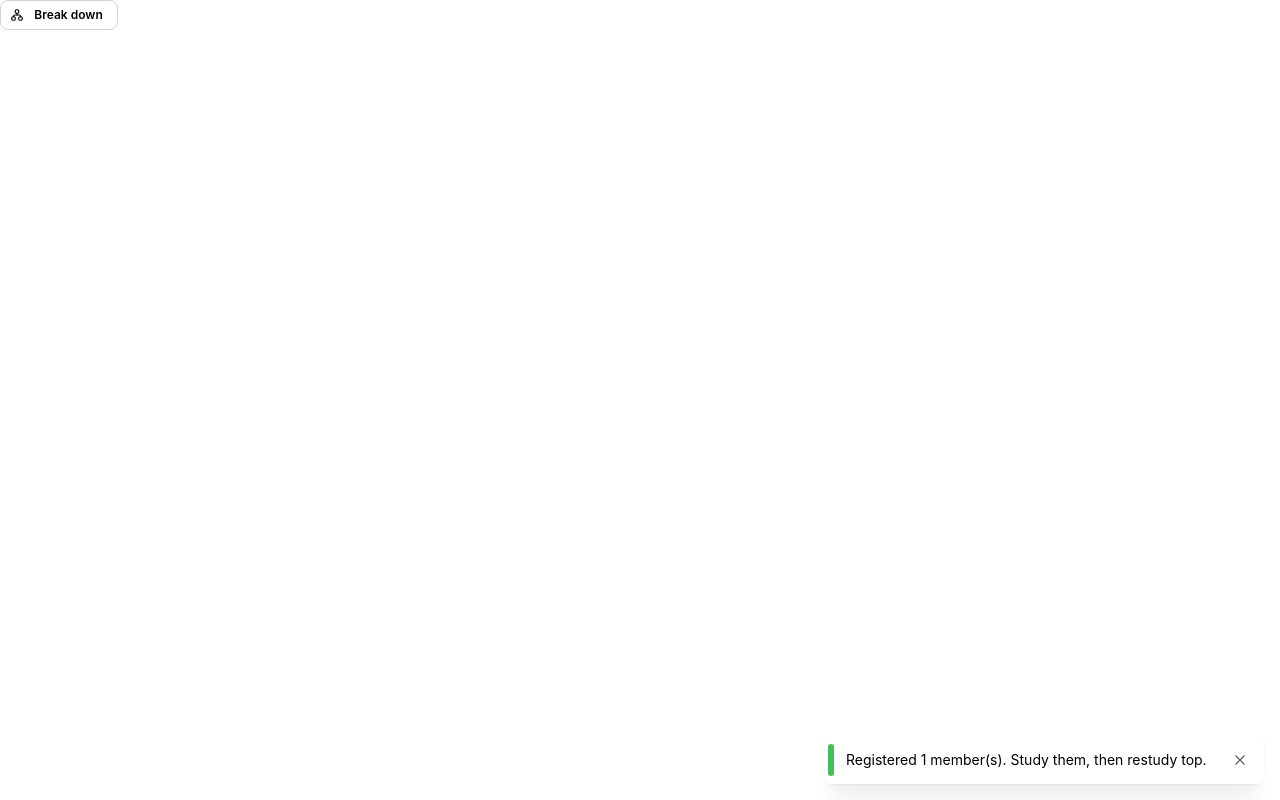
BreakDown › says what to do when the study suggests nothing
Click the button "Break down" at (59, 15), box [0,0,118,30]
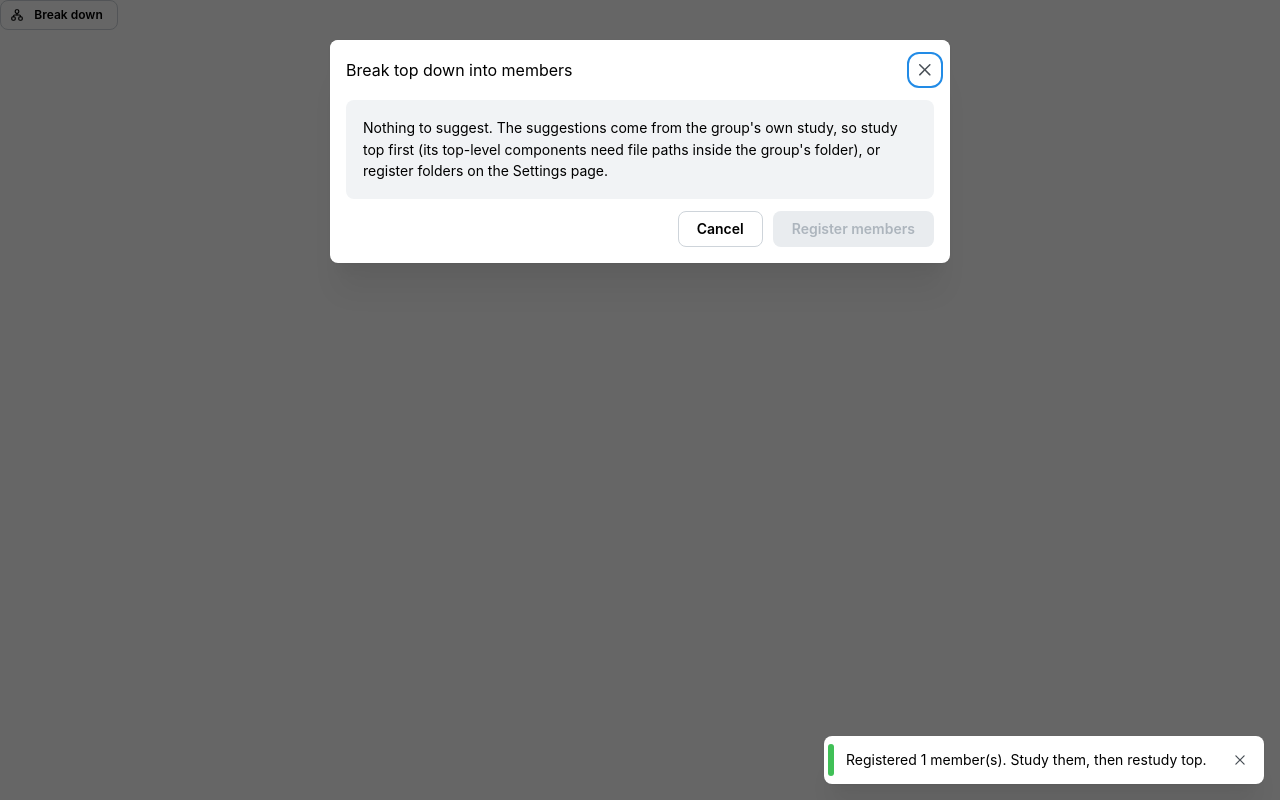
Result: the text "Nothing to suggest" is shown at [363,119,898,136]
Result: the button "Register members" is disabled at [773,211,934,247]
